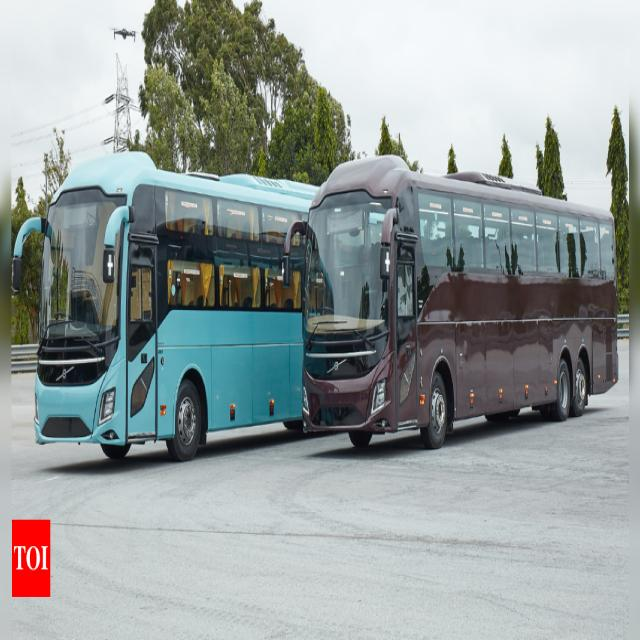bus: (282, 157, 619, 449), (12, 150, 316, 461)
